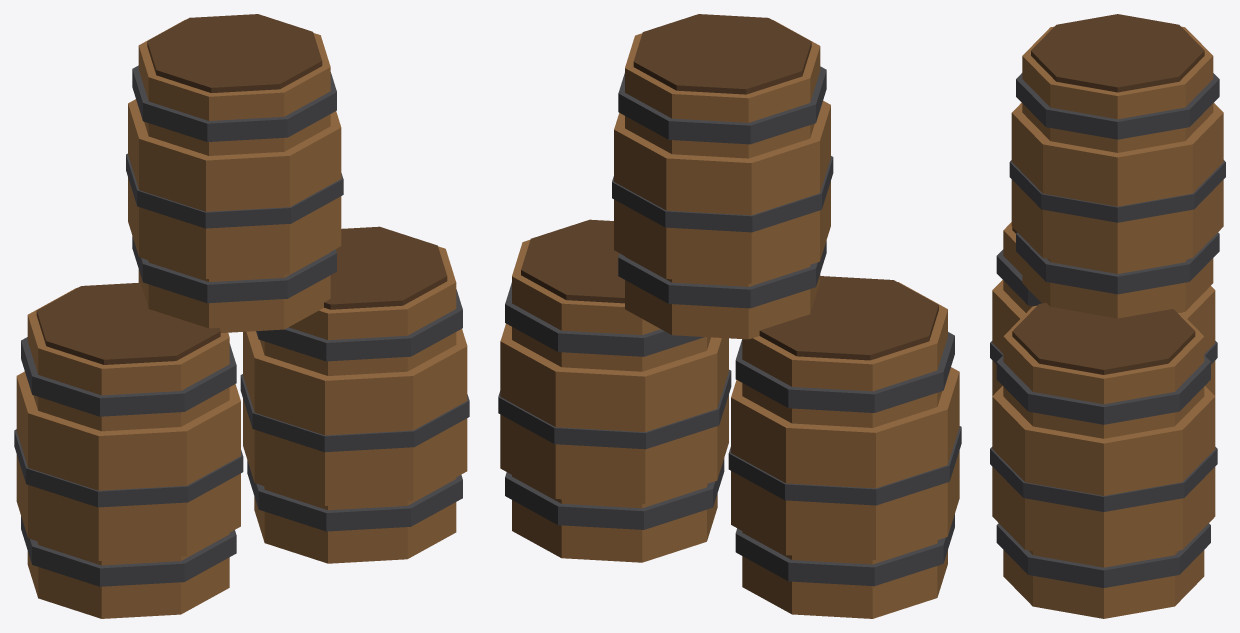
The model's file is barrel_2.glb.
3 renders of one model, left to right at view 1: azimuth 30°, elevation 25°; view 2: azimuth 150°, elevation 25°; view 3: azimuth 270°, elevation 25°, orthographic. The views are drawn at different scales.
Parts seen in each view (by area): view 1: barrel_2; view 2: barrel_2; view 3: barrel_2.
Boxes of the visible parts, box(x1,y1,x2,y2) form: barrel_2: box(14, 14, 469, 618); barrel_2: box(498, 14, 961, 618); barrel_2: box(990, 14, 1225, 618).
Size of what is drawn, in the model's own units: 1.72 by 1.87 by 0.8456.
